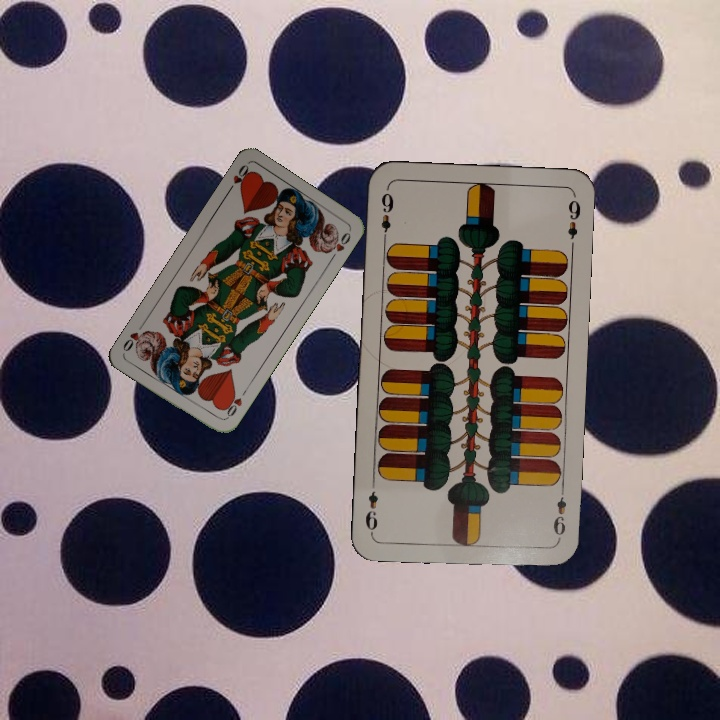E9: (549, 484, 569, 543), (377, 188, 397, 245)
HO: (223, 160, 254, 197), (219, 385, 249, 422)
